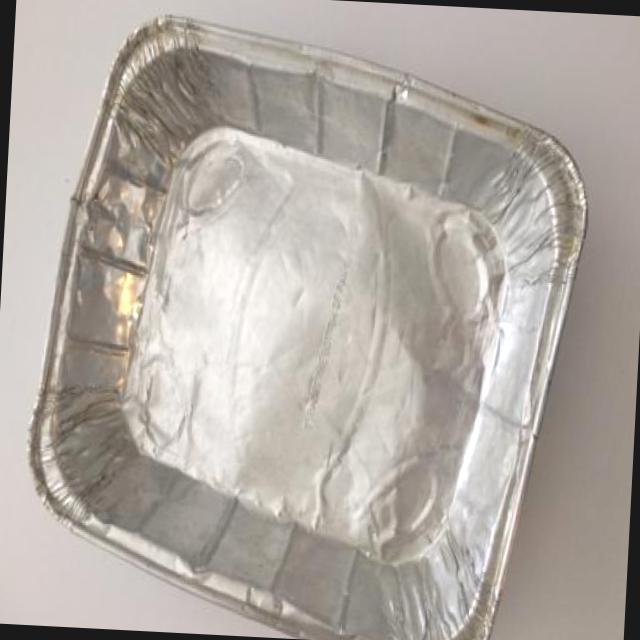kim_loai: (23, 14, 586, 640)
